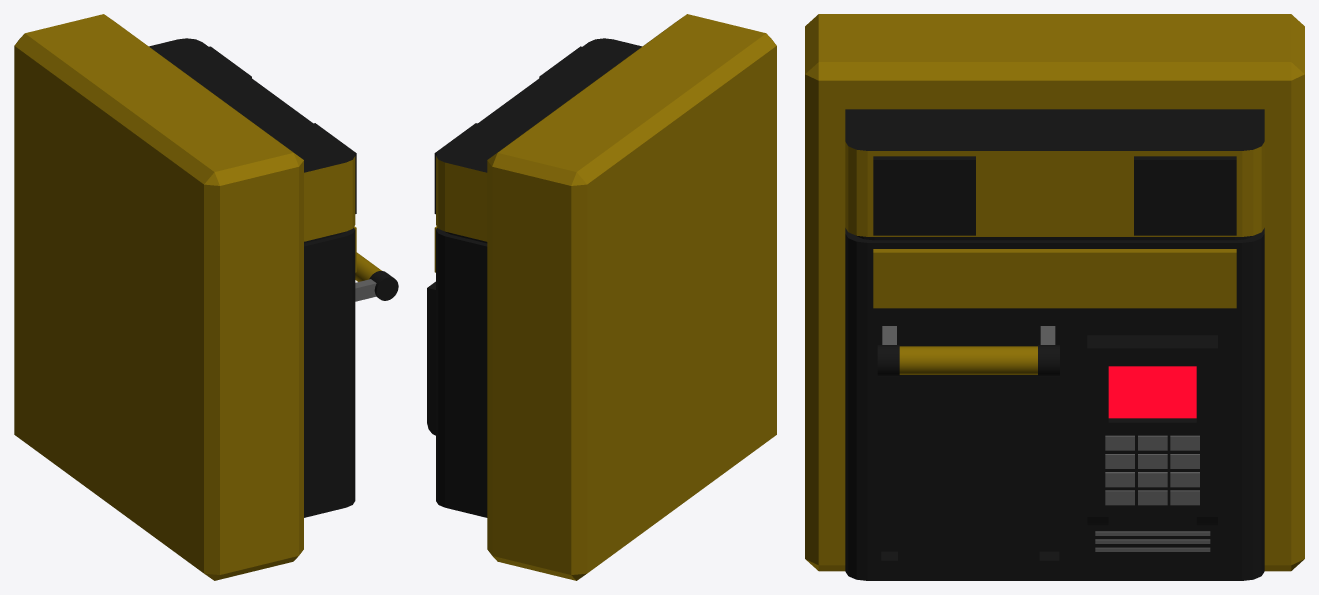
Rendered from switch.fbx.
The picture shows the model from 3 angles, left to right: view 1: azimuth 30°, elevation 25°; view 2: azimuth 150°, elevation 25°; view 3: azimuth 270°, elevation 25°; orthographic projection. The views are drawn at different scales.
Parts seen in each view (by area): view 1: Cube.001, Cube.004; view 2: Cube.001; view 3: Cube.001, Cube.004.
Boxes of the visible parts, x1=… form: Cube.001: x1=14, y1=14, x2=356, y2=580; Cube.004: x1=355, y1=252, x2=398, y2=301; Cube.001: x1=427, y1=14, x2=776, y2=580; Cube.001: x1=805, y1=14, x2=1304, y2=580; Cube.004: x1=877, y1=326, x2=1059, y2=376.
Size of the model in its own units: 242 by 433 by 385.
